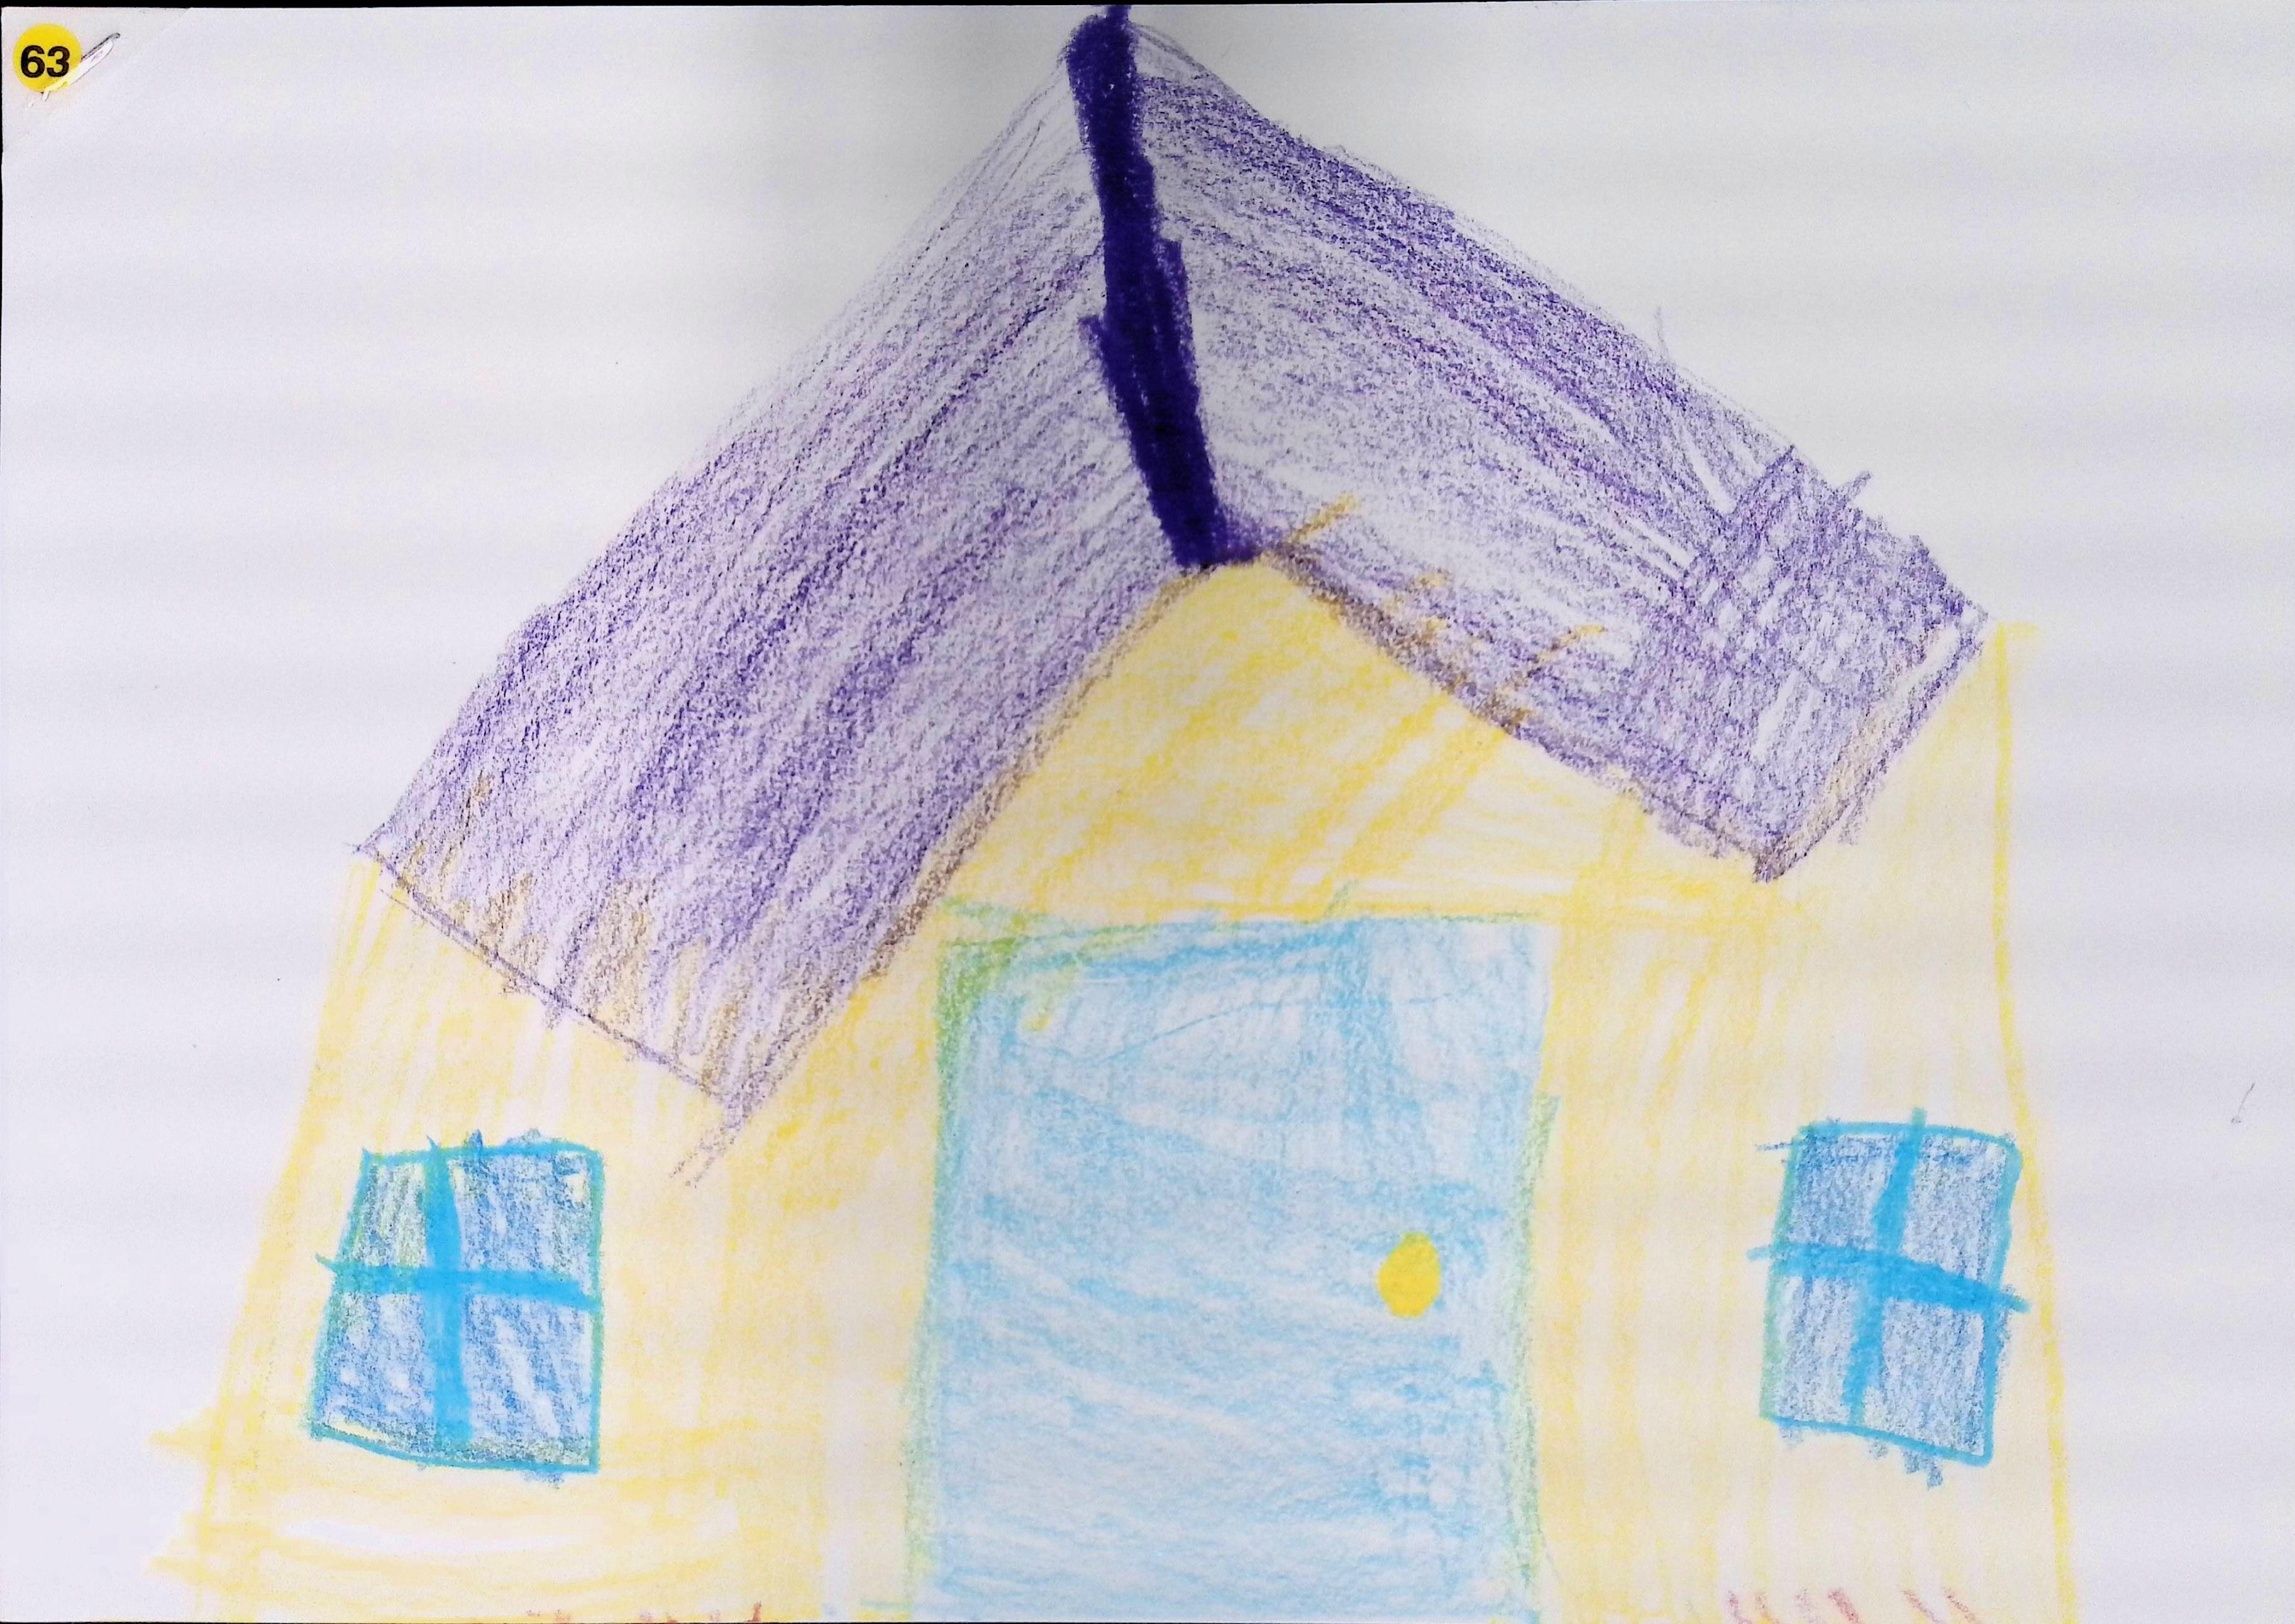door: (903, 923, 1548, 1624)
house: (186, 9, 2074, 1622)
roof: (366, 14, 1986, 1116)
wall: (169, 561, 2082, 1624)
window: (306, 1134, 601, 1475), (1764, 1113, 2026, 1462)
